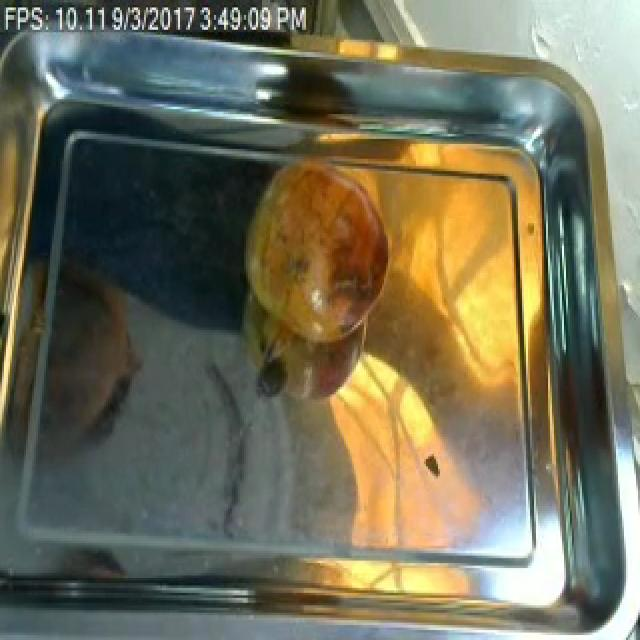fruit: (236, 154, 398, 357)
